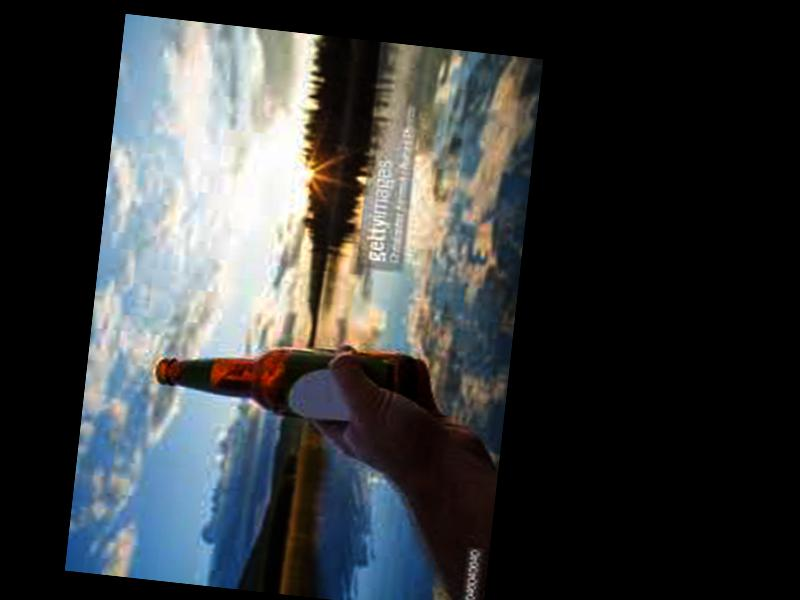Beer: (150, 324, 416, 431)
